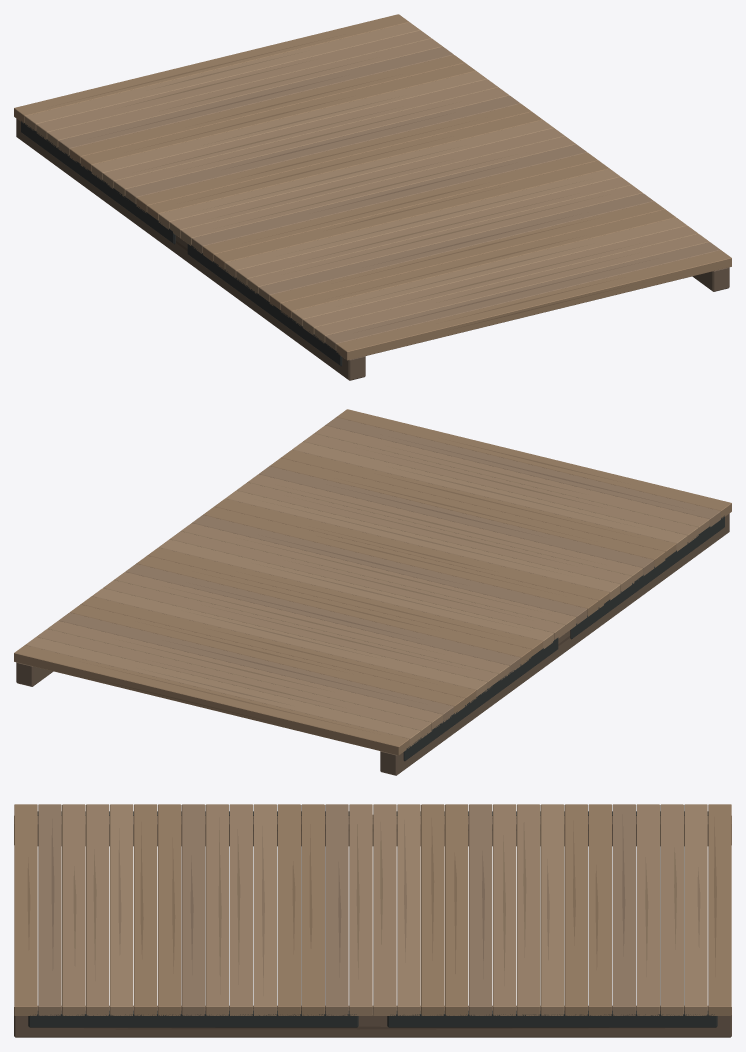
The model's file is main_deck.glb.
3 views of the same model, one above another, from view 1: azimuth 30°, elevation 25°; view 2: azimuth 150°, elevation 25°; view 3: azimuth 270°, elevation 25° (orthographic). The views are drawn at different scales.
Visible parts, largest first — view 1: main_deck; view 2: main_deck; view 3: main_deck.
Boxes of the visible parts, <box> form: main_deck: <box>14,14,731,380</box>; main_deck: <box>14,409,731,775</box>; main_deck: <box>14,804,731,1037</box>.
Size of the model in its own units: 4 by 0.3 by 6.
